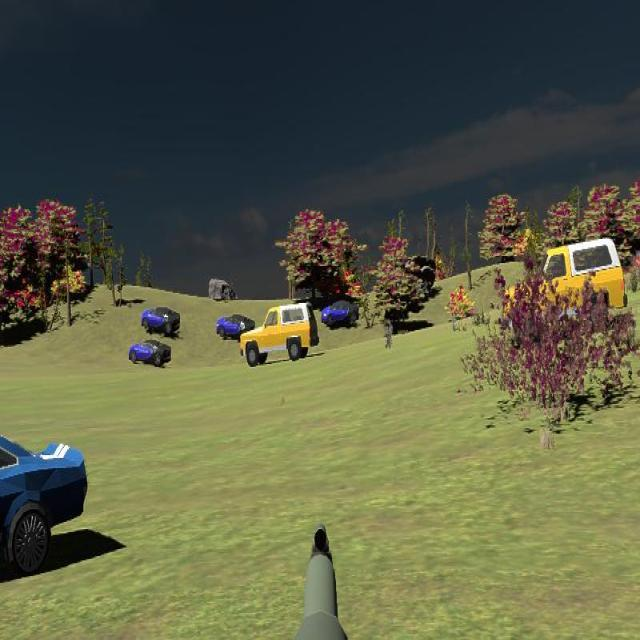car: (0, 424, 88, 592), (510, 239, 630, 345), (240, 303, 320, 366), (321, 298, 360, 330), (128, 339, 171, 368), (141, 305, 181, 335), (216, 313, 256, 341)
